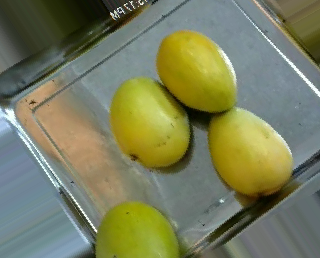Mango: (107, 75, 194, 171), (205, 104, 293, 198), (152, 27, 241, 115), (88, 199, 184, 257)
